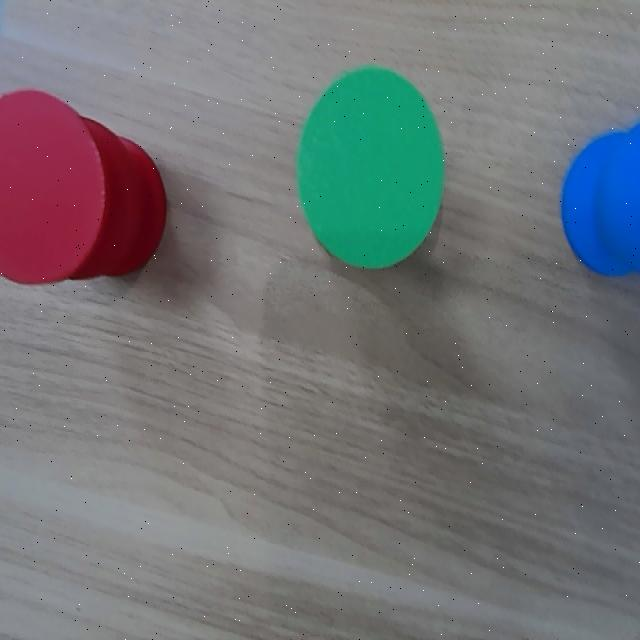g: (297, 67, 445, 269)
